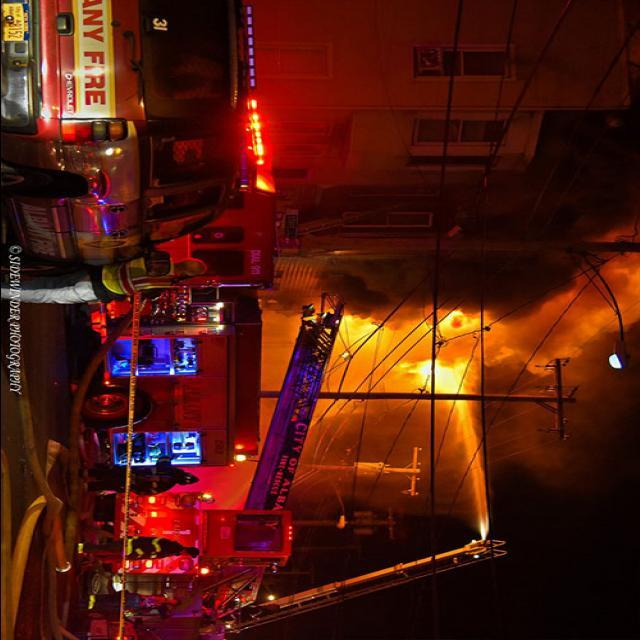Fire: (290, 276, 586, 437)
